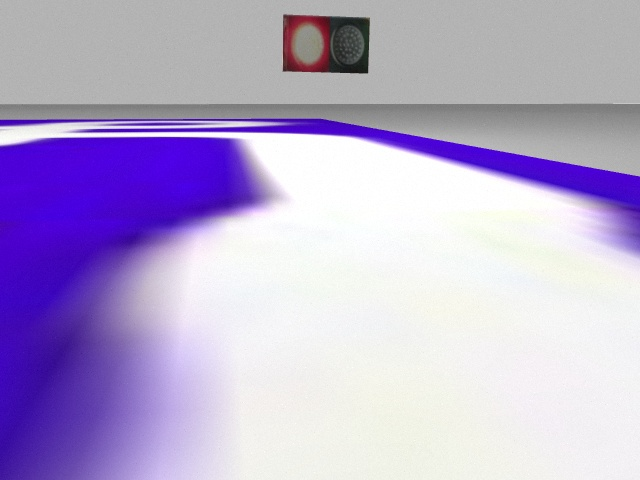red: (283, 13, 330, 71)
